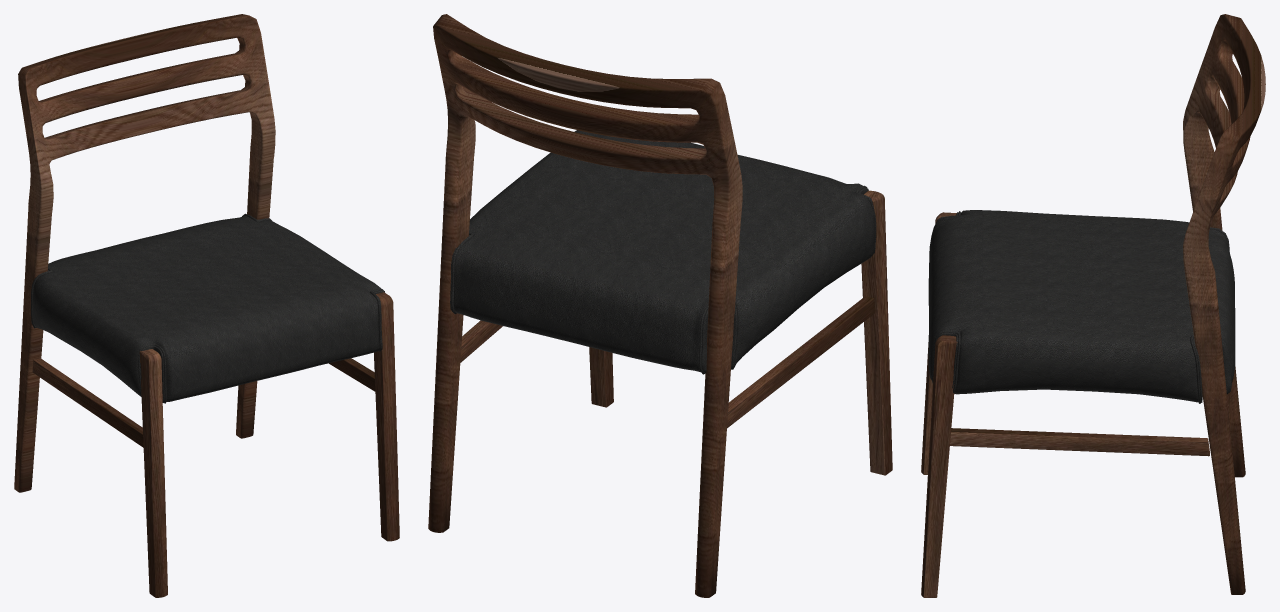
File: BHID01186.glb
3 renders of one model, left to right at view 1: azimuth 30°, elevation 25°; view 2: azimuth 150°, elevation 25°; view 3: azimuth 270°, elevation 25°, orthographic. The views are drawn at different scales.
Visible parts, largest first — view 1: BP_BHID01186; view 2: BP_BHID01186; view 3: BP_BHID01186.
Part boxes in pixels (left/top/right/bottom): BP_BHID01186: left=14, top=14, right=399, bottom=597; BP_BHID01186: left=428, top=14, right=892, bottom=597; BP_BHID01186: left=921, top=14, right=1265, bottom=597.
Bounding box in the file's own units: 0.4995 × 0.7876 × 0.5337.
Materials: 2 (2 with a texture image).
